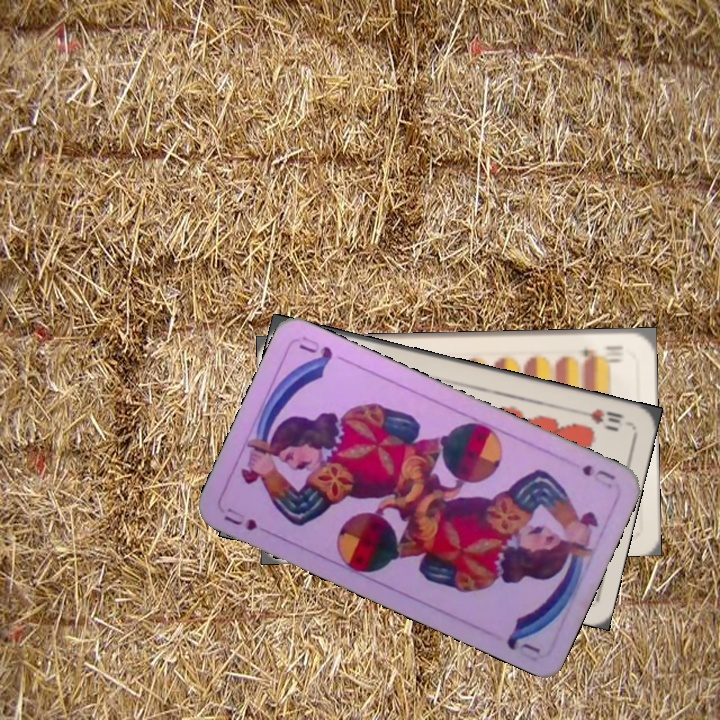E10: (578, 341, 625, 362)
H10: (573, 404, 627, 427)
SU: (220, 503, 275, 538), (578, 460, 618, 491)
